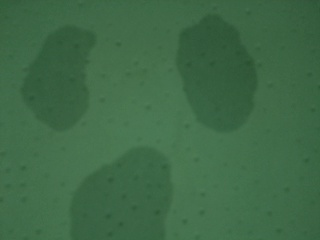Water_detected: (78, 155, 159, 240), (178, 42, 237, 122), (30, 49, 80, 121)
